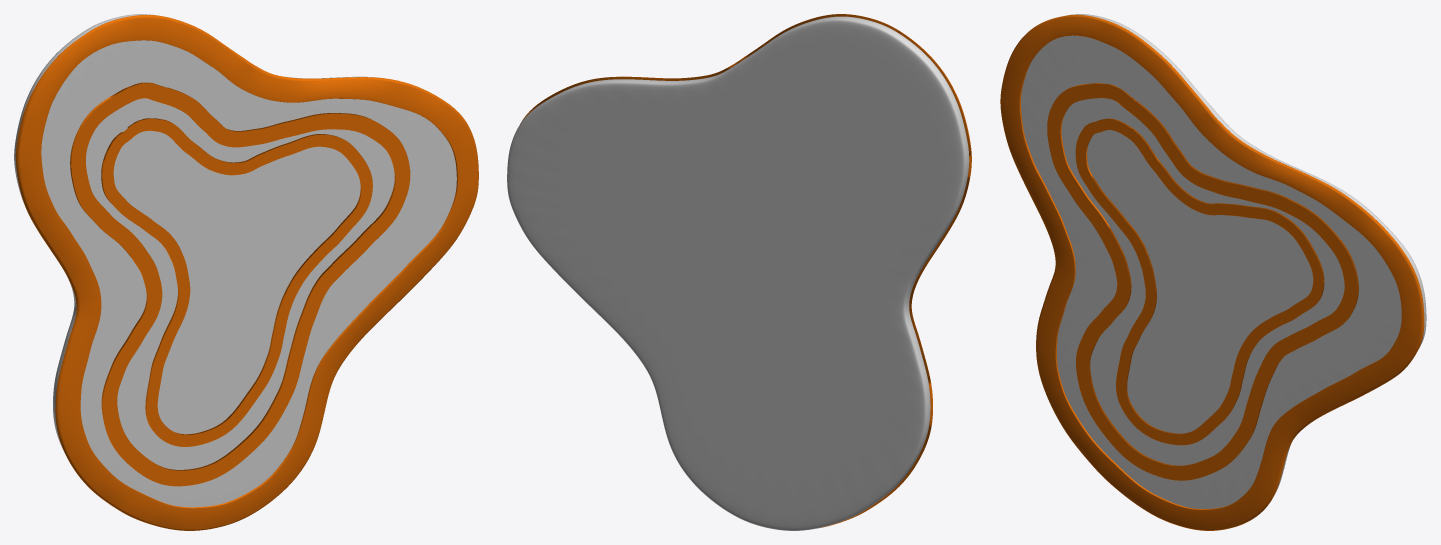
Rendered from Miroir2.fbx.
3 renders of one model, left to right at view 1: azimuth 30°, elevation 25°; view 2: azimuth 150°, elevation 25°; view 3: azimuth 330°, elevation 25°, orthographic. The views are drawn at different scales.
Visible parts, largest first — view 1: Plane.001, BézierCurve.005, BézierCurve.004, BézierCurve.003; view 2: Plane.001, BézierCurve.005; view 3: Plane.001, BézierCurve.005, BézierCurve.004, BézierCurve.003.
Part boxes in pixels (left/top/right/bottom): Plane.001: left=14, top=14, right=456, bottom=507; BézierCurve.005: left=15, top=15, right=478, bottom=530; BézierCurve.004: left=70, top=82, right=410, bottom=486; BézierCurve.003: left=101, top=118, right=372, bottom=446; Plane.001: left=507, top=16, right=969, bottom=530; BézierCurve.005: left=520, top=14, right=971, bottom=528; Plane.001: left=1021, top=14, right=1426, bottom=508; BézierCurve.005: left=1000, top=14, right=1424, bottom=530; BézierCurve.004: left=1047, top=83, right=1358, bottom=480; BézierCurve.003: left=1075, top=118, right=1324, bottom=445.
Size of the model in its own units: 211 by 233 by 6.
